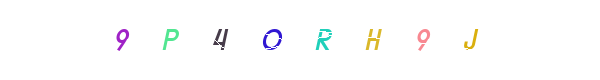4: (188, 0, 268, 80)
9: (94, 0, 174, 80), (371, 0, 451, 80)
H: (260, 0, 340, 80)
J: (382, 0, 462, 80)
O: (212, 0, 292, 80)
P: (181, 0, 261, 80)
R: (232, 0, 312, 80)
